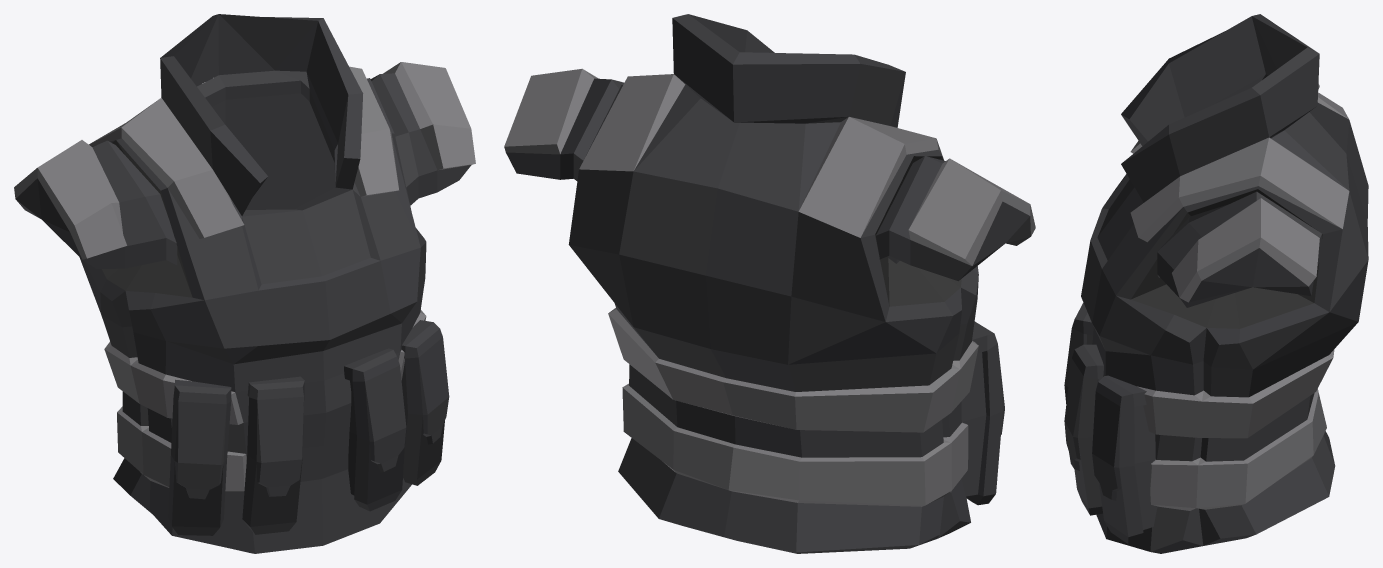
File: crate-armor.obj
3 views of the same model, side by side, from view 1: azimuth 30°, elevation 25°; view 2: azimuth 150°, elevation 25°; view 3: azimuth 270°, elevation 25° (orthographic). The views are drawn at different scales.
Visible parts, largest first — view 1: crate-armor.obj; view 2: crate-armor.obj; view 3: crate-armor.obj.
Part boxes in pixels (box(x1,y1,x2,y2)): crate-armor.obj: box(14, 14, 475, 553); crate-armor.obj: box(504, 14, 1035, 553); crate-armor.obj: box(1064, 14, 1368, 553).
Size of the model in its own units: 0.5861 by 0.6324 by 0.3701.
